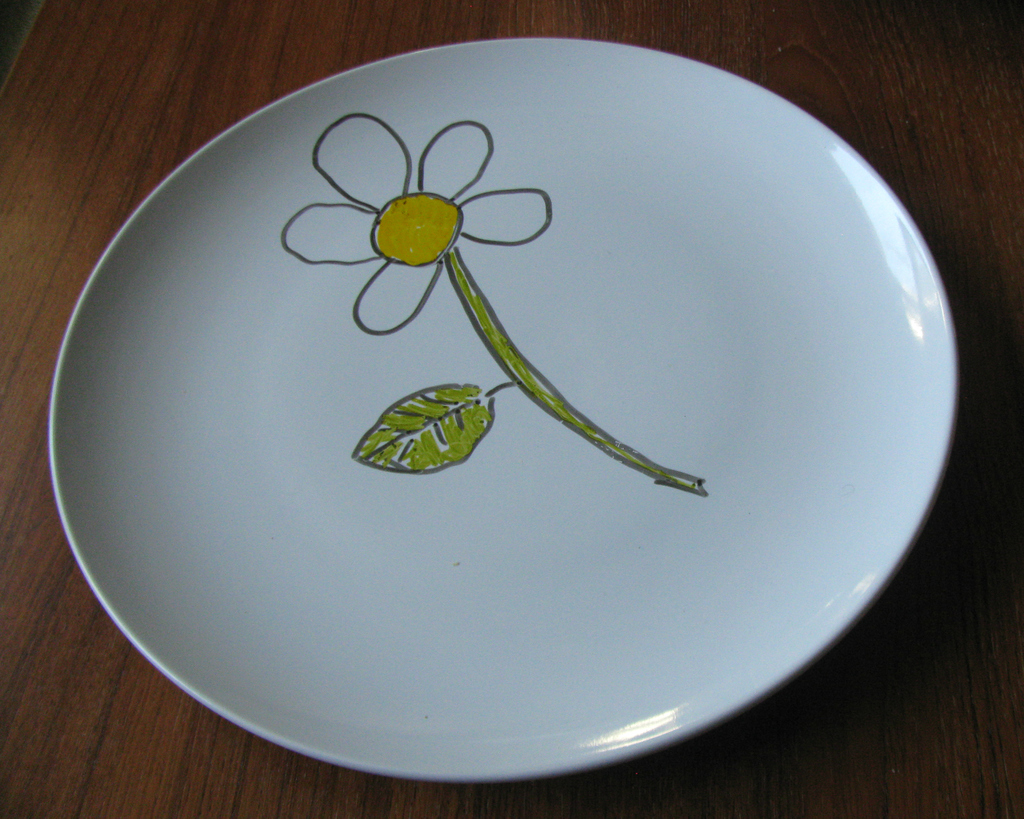plate: (48, 40, 956, 781)
